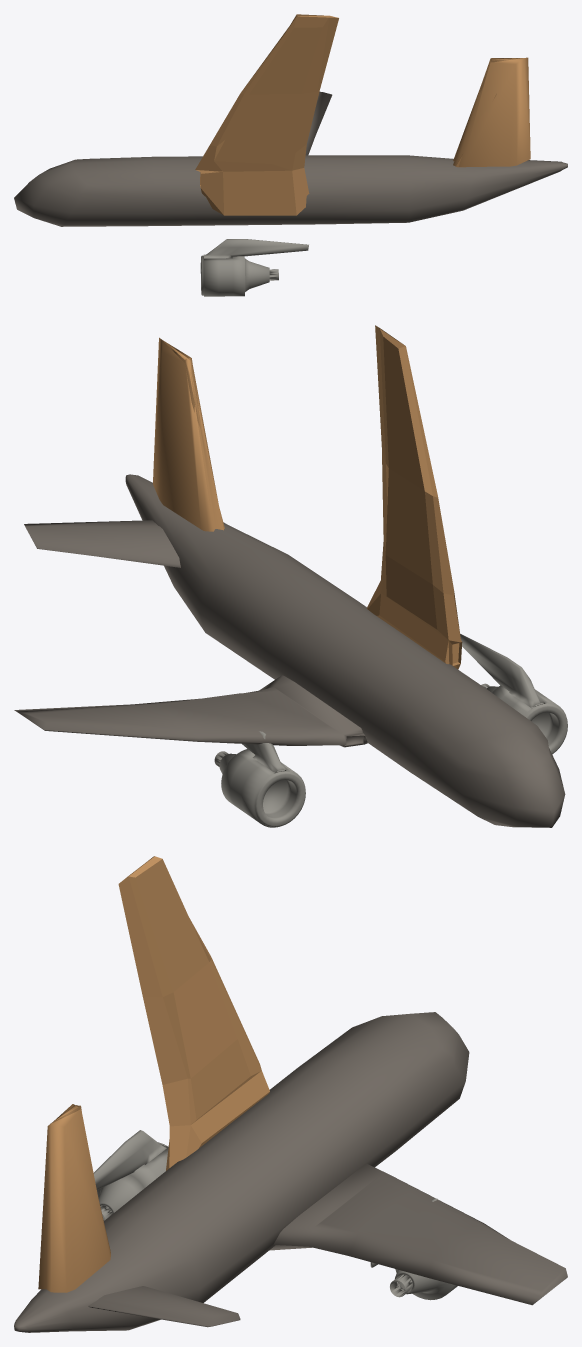
File: prop_wreck_transport.glb
The picture shows the model from 3 angles, top to bottom: view 1: azimuth 30°, elevation 25°; view 2: azimuth 150°, elevation 25°; view 3: azimuth 270°, elevation 25°; orthographic projection. The views are drawn at different scales.
Visible parts, largest first — view 1: prop_wreck_transport; view 2: prop_wreck_transport; view 3: prop_wreck_transport.
Boxes of the visible parts, x1=… form: prop_wreck_transport: x1=14, y1=14, x2=567, y2=296; prop_wreck_transport: x1=14, y1=325, x2=567, y2=827; prop_wreck_transport: x1=14, y1=856, x2=567, y2=1332.
Bounding box in the file's own units: 4.4 × 2.49 × 2.95.
